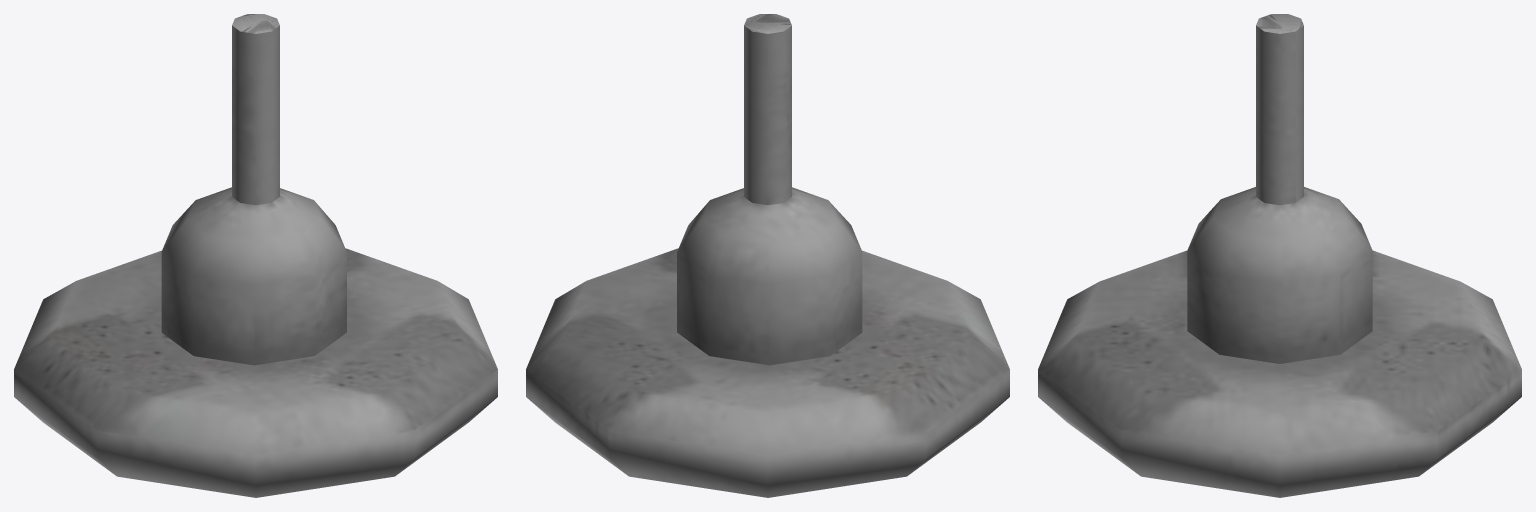
The model's file is CeilingFanBase.fbx.
3 views of the same model, side by side, from view 1: azimuth 30°, elevation 25°; view 2: azimuth 150°, elevation 25°; view 3: azimuth 270°, elevation 25° (orthographic).
Parts seen in each view (by area): view 1: fanBase1; view 2: fanBase1; view 3: fanBase1.
Boxes of the visible parts, bbox=[...] form: fanBase1: bbox=[14, 14, 497, 497]; fanBase1: bbox=[526, 14, 1009, 497]; fanBase1: bbox=[1038, 14, 1521, 497].
Bounding box in the file's own units: 47.76 × 47.04 × 48.49.
1 material, 1 textured.
